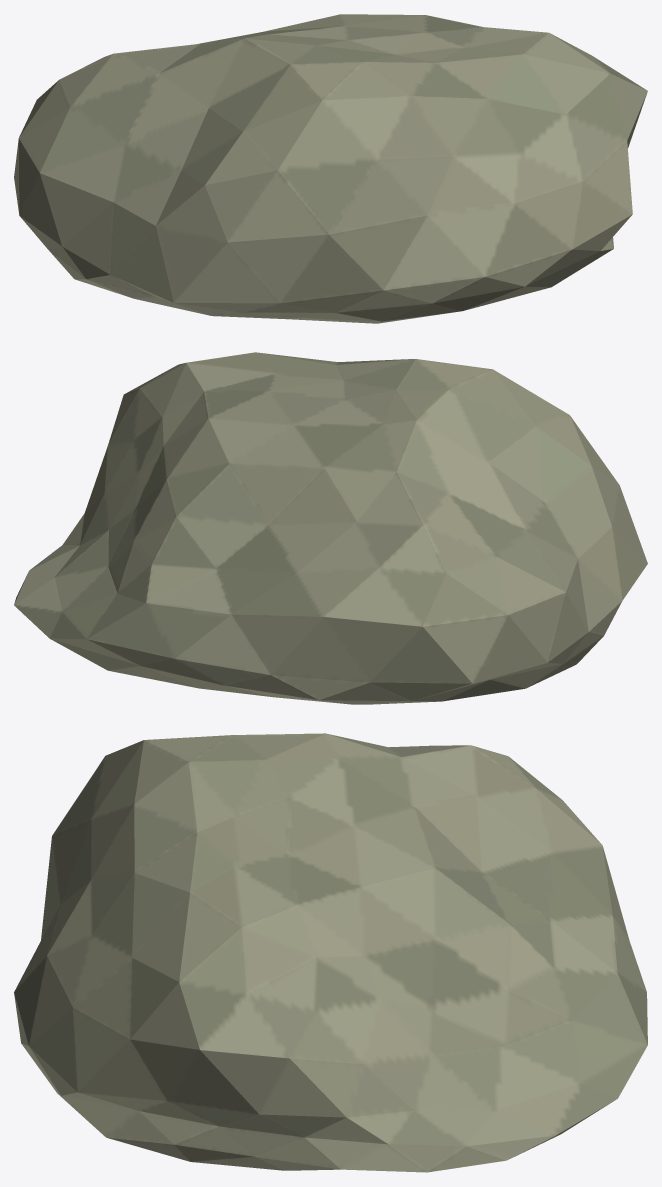
The model's file is SM_Rock_Medium.glb.
The picture shows the model from 3 angles, top to bottom: view 1: azimuth 30°, elevation 25°; view 2: azimuth 150°, elevation 25°; view 3: azimuth 270°, elevation 25°; orthographic projection. The views are drawn at different scales.
Visible parts, largest first — view 1: SM_Rock_Medium; view 2: SM_Rock_Medium; view 3: SM_Rock_Medium.
Part boxes in pixels (bbox=[...]): SM_Rock_Medium: bbox=[14, 14, 647, 323]; SM_Rock_Medium: bbox=[14, 352, 647, 704]; SM_Rock_Medium: bbox=[14, 733, 647, 1172].
Size of the model in its own units: 1.23 by 0.5665 by 1.08.
1 material, 1 textured.
